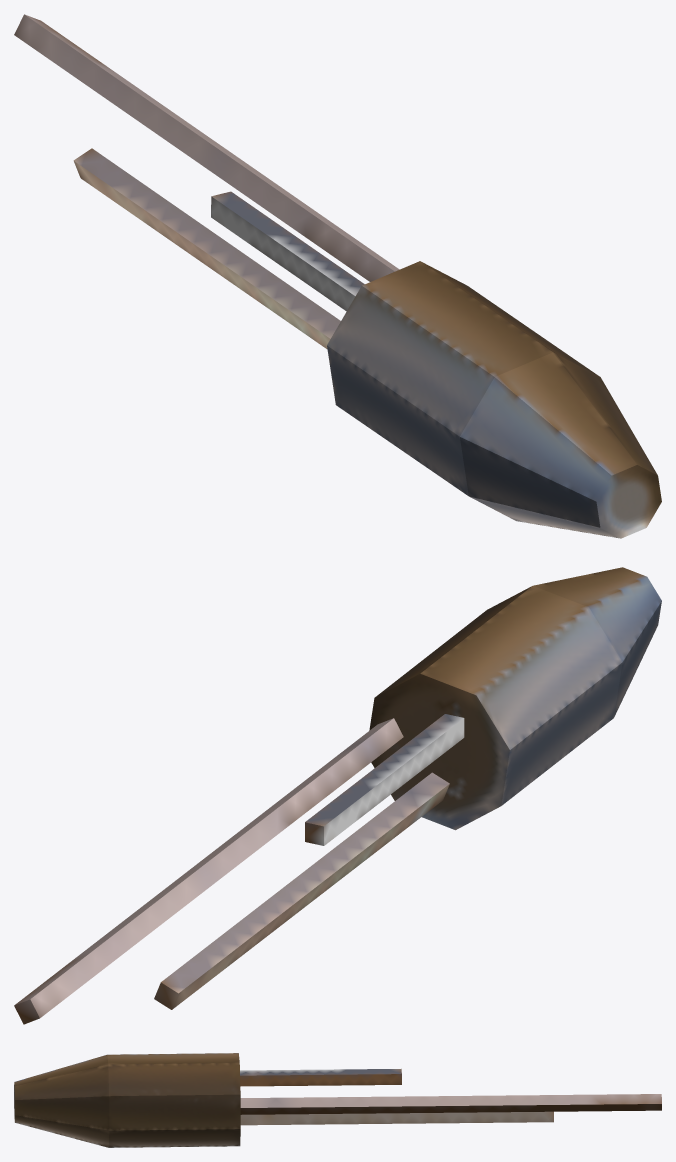
3 views of the same model, one above another, from view 1: azimuth 30°, elevation 25°; view 2: azimuth 150°, elevation 25°; view 3: azimuth 270°, elevation 25° (orthographic). The views are drawn at different scales.
Visible parts, largest first — view 1: Bala_Cylinder.003, Estela_1_Cube.006, Estela_3_Cube.008, Estela_2_Cube.007; view 2: Bala_Cylinder.003, Estela_1_Cube.006, Estela_3_Cube.008, Estela_2_Cube.007; view 3: Bala_Cylinder.003, Estela_1_Cube.006, Estela_3_Cube.008, Estela_2_Cube.007.
Part boxes in pixels (box(x1,y1,x2,y2)): Bala_Cylinder.003: box(327, 261, 661, 538); Estela_1_Cube.006: box(14, 14, 399, 281); Estela_3_Cube.008: box(73, 148, 340, 349); Estela_2_Cube.007: box(211, 191, 364, 311); Bala_Cylinder.003: box(369, 567, 661, 830); Estela_1_Cube.006: box(14, 718, 403, 1024); Estela_3_Cube.008: box(154, 772, 449, 1009); Estela_2_Cube.007: box(305, 714, 464, 845); Bala_Cylinder.003: box(14, 1053, 240, 1147); Estela_1_Cube.006: box(240, 1094, 661, 1114); Estela_3_Cube.008: box(240, 1111, 553, 1125); Estela_2_Cube.007: box(240, 1068, 401, 1086).
Size of what is drawn, in the model's own units: 0.2833 by 0.2725 by 1.94.
